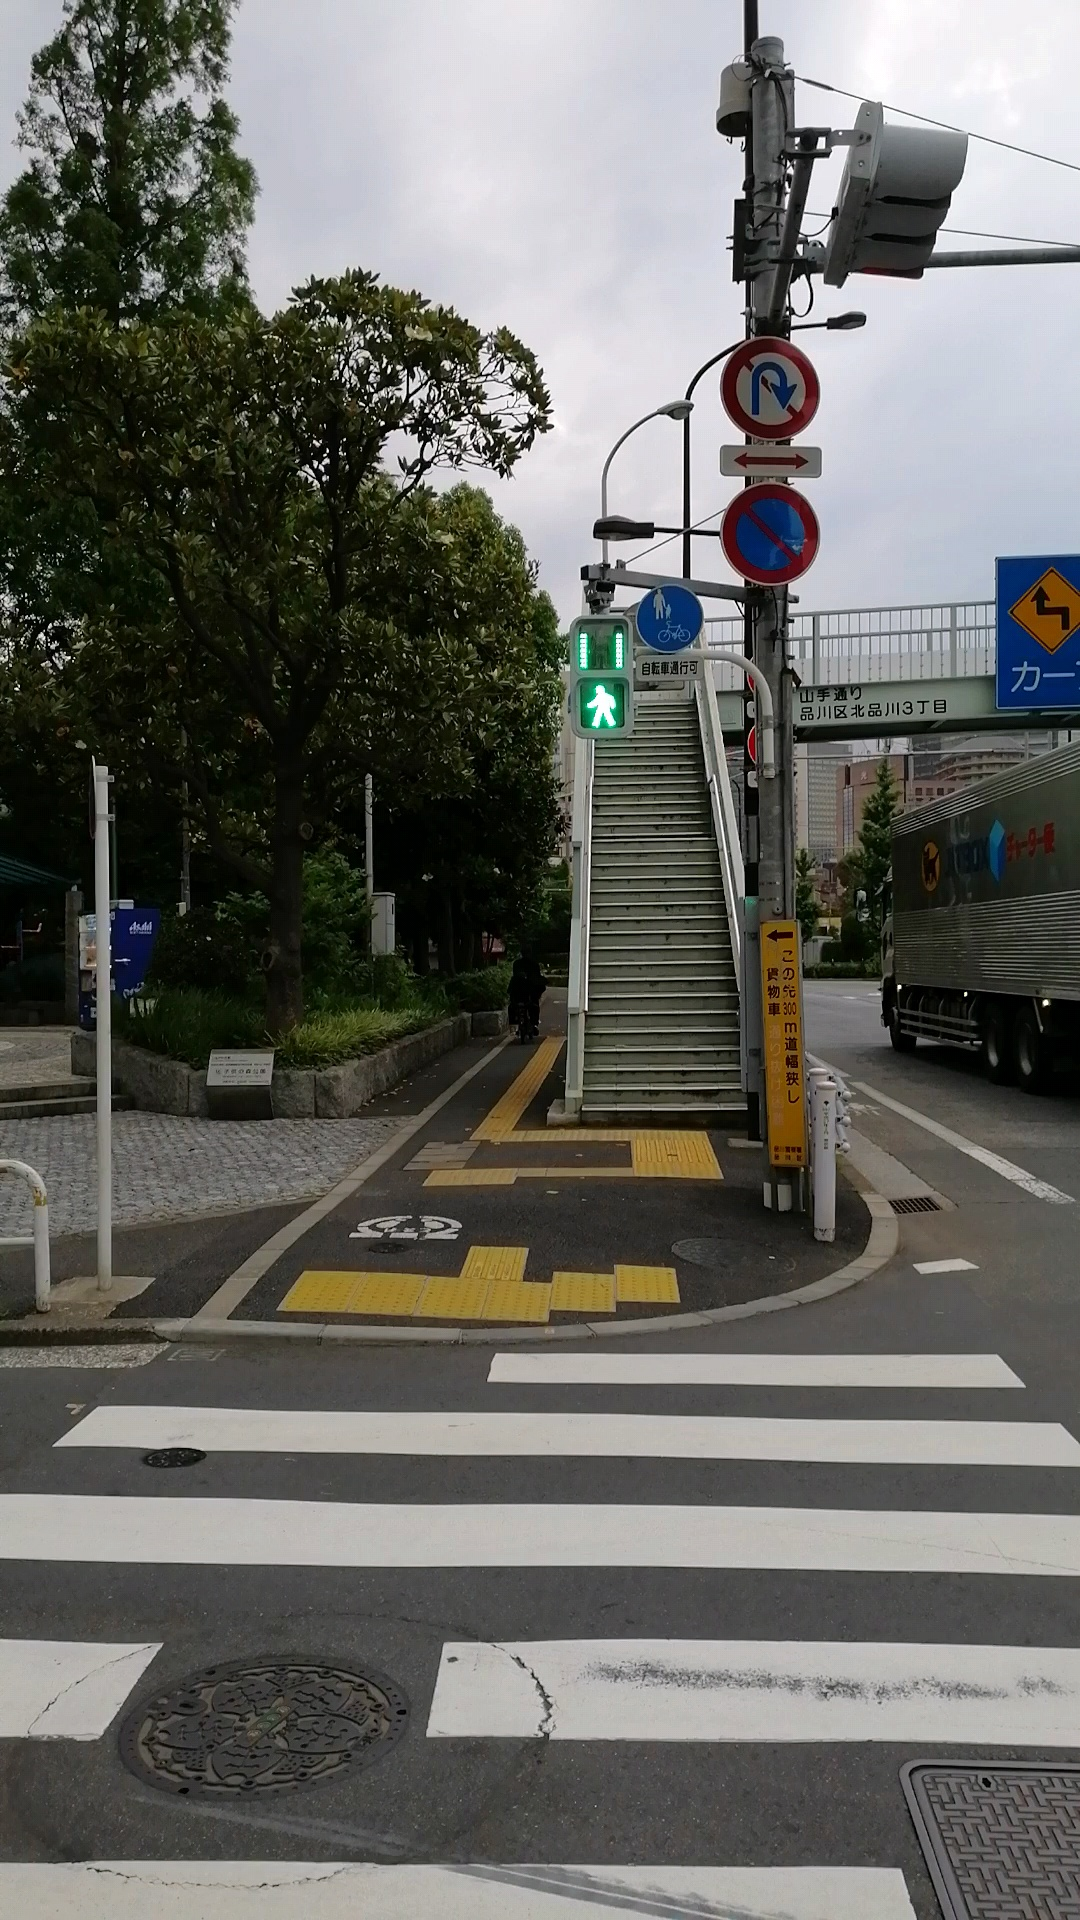green: (571, 615, 632, 741)
